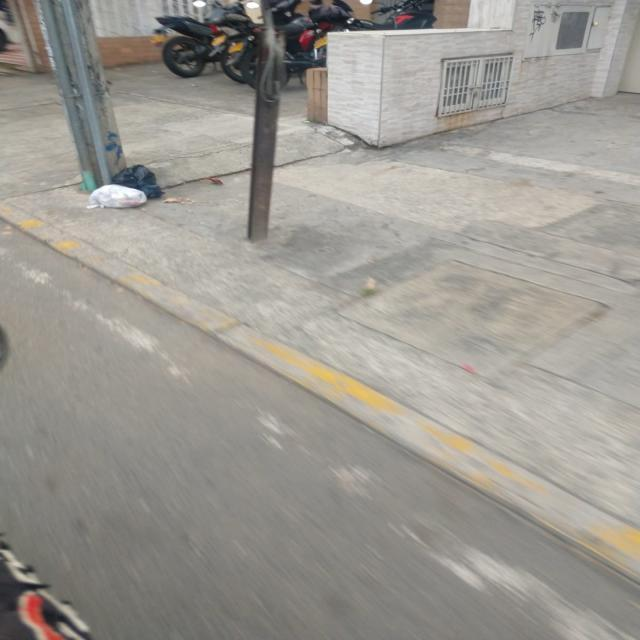Trashbag: (111, 164, 161, 196)
